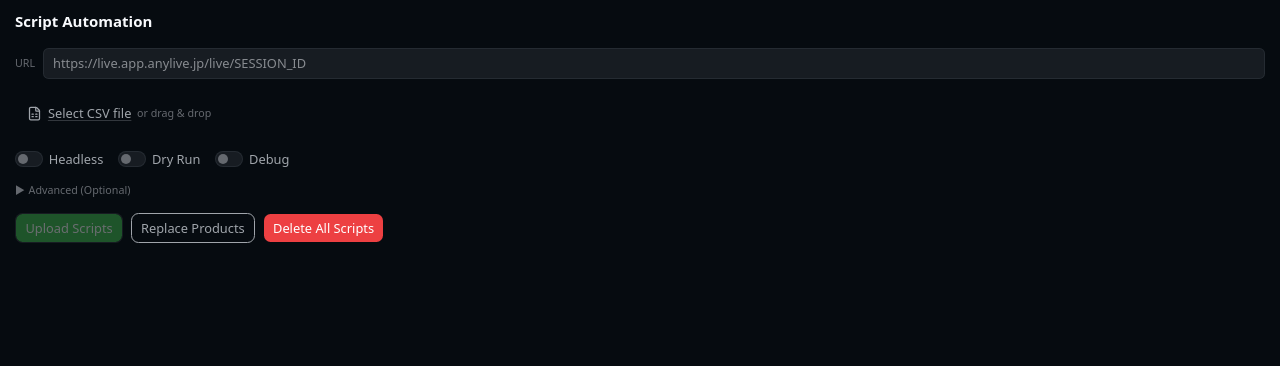
it: ScriptsPanel › shows replace confirmation dialog when replace button clicked
Click the button with test id "replace-products-button" at x=193, y=228, box x1=131 y1=213 x2=255 y2=243
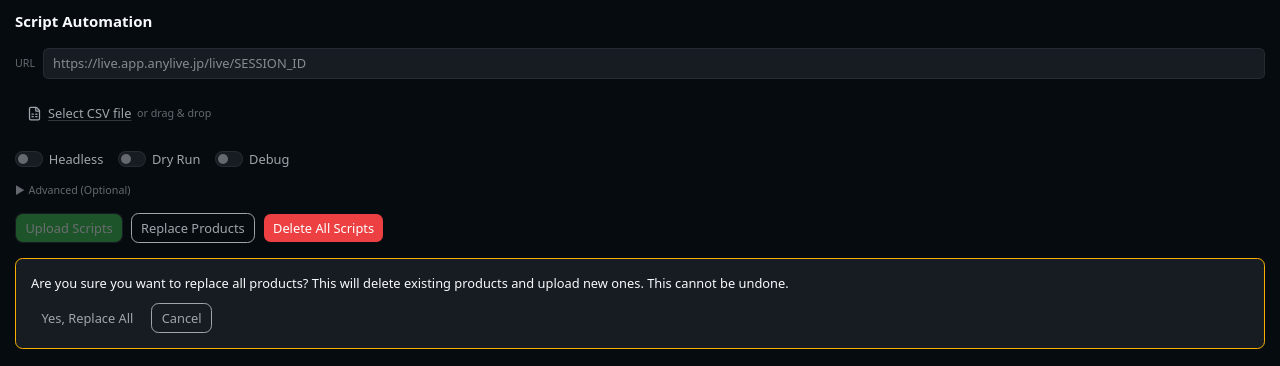
Result: the element with test id "replace-confirm-dialog" is shown at x1=15 y1=258 x2=1265 y2=349
Result: the button with test id "confirm-replace-button" is shown at x1=31 y1=303 x2=144 y2=333
Result: the button with test id "cancel-replace-button" is shown at x1=151 y1=303 x2=212 y2=333
